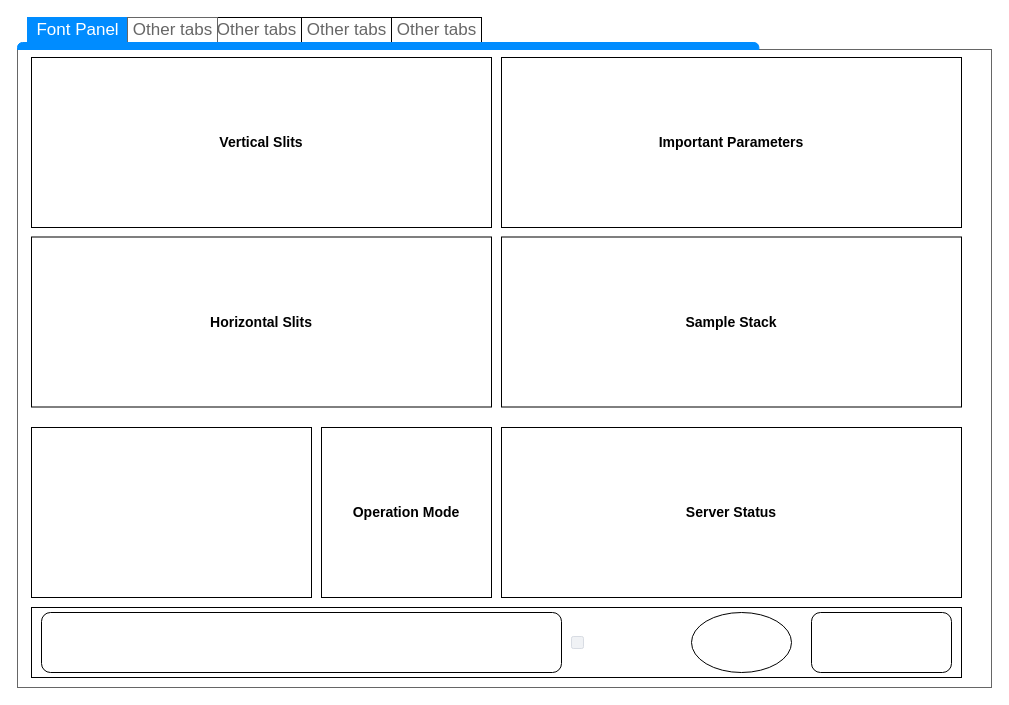
The diagram is 1009 pixels wide and 705 high, and some of its shapes have lost their labels. The box of each missing label's shape, as (x1, y1, x2, y2) in pixels:
Apply mode inits on move: (570, 636, 584, 648)
Footprint Calculator: (30, 426, 312, 598)
Motion Light: (690, 612, 792, 672)
Move All: (40, 612, 562, 672)
STOP ALL MOTION: (810, 612, 952, 672)
